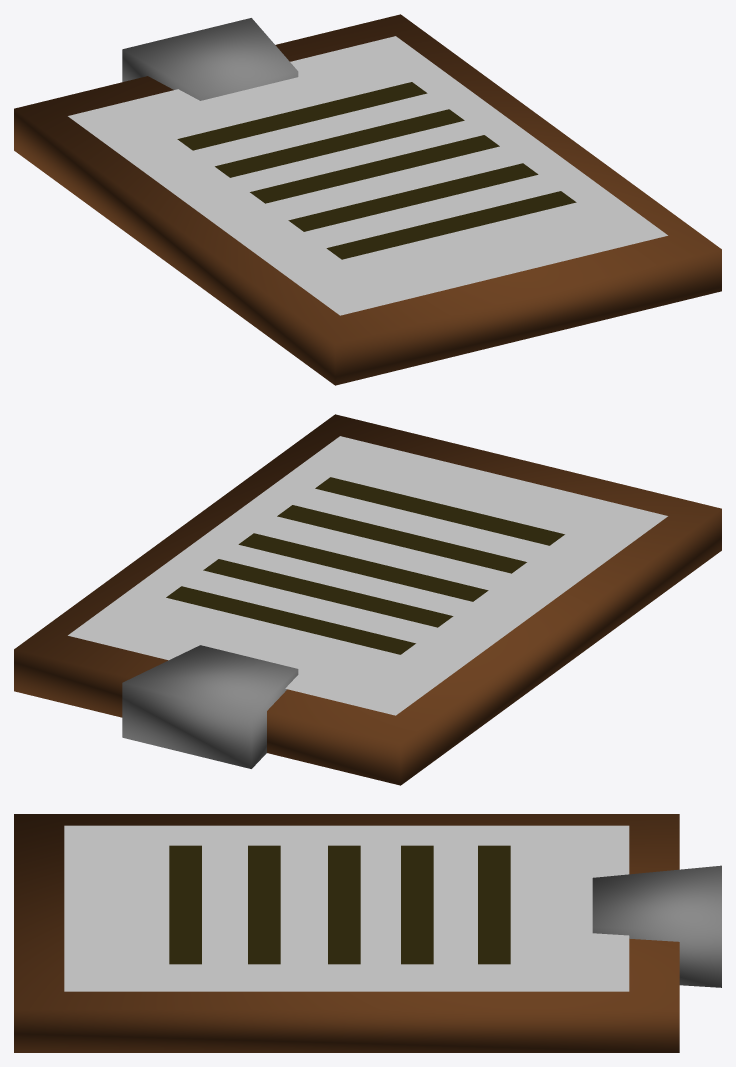
File: Res.fbx
3 renders of one model, top to bottom at view 1: azimuth 30°, elevation 25°; view 2: azimuth 150°, elevation 25°; view 3: azimuth 270°, elevation 25°, orthographic. The views are drawn at different scales.
Visible parts, largest first — view 1: Cylinder.004; view 2: Cylinder.004; view 3: Cylinder.004.
Boxes of the visible parts, x1,y1,x2,y2 form: Cylinder.004: [14, 14, 721, 385]; Cylinder.004: [14, 414, 721, 785]; Cylinder.004: [14, 814, 721, 1052].
Bounding box in the file's own units: 32.87 × 4.46 × 50.29.
